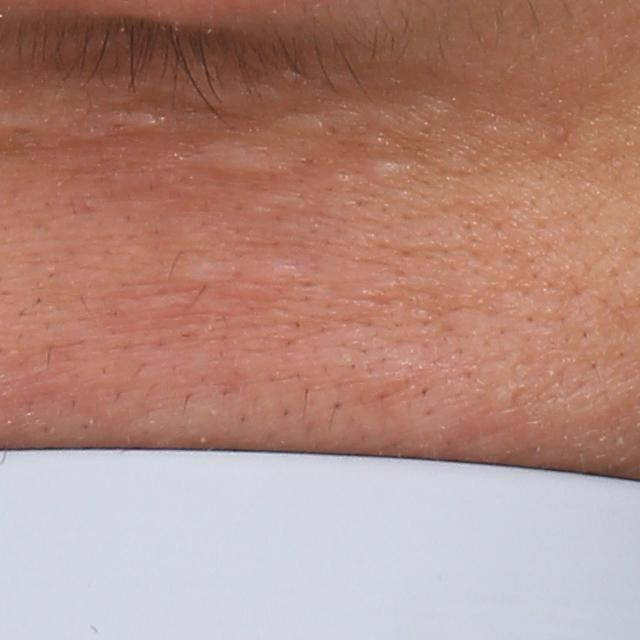hypertrophic_scar: (175, 137, 306, 178), (62, 112, 173, 143), (269, 111, 337, 143), (172, 256, 229, 286), (370, 158, 412, 183)
